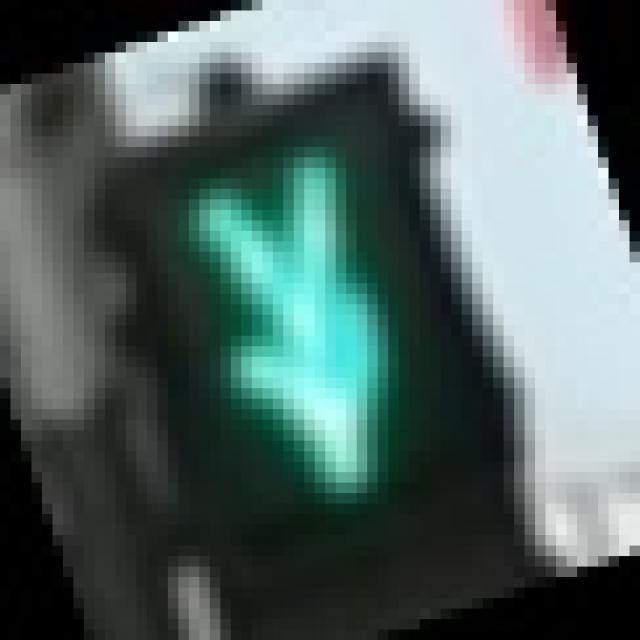green_light: (84, 52, 525, 566)
